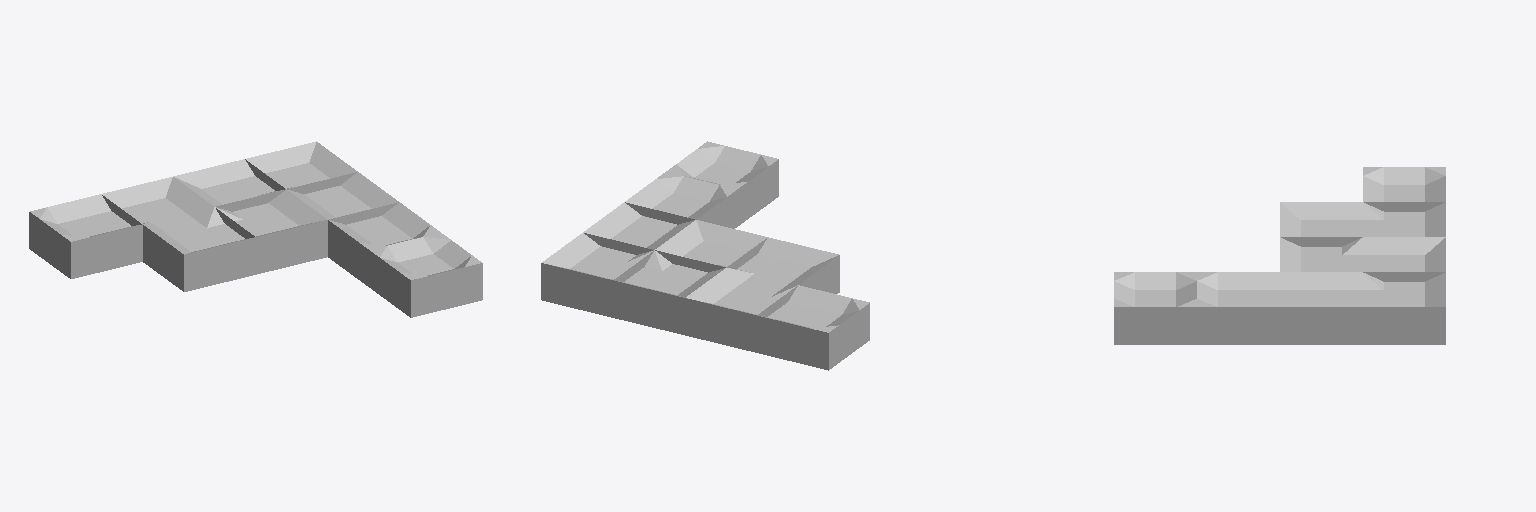
File: 75f_path.obj
The picture shows the model from 3 angles: view 1: azimuth 30°, elevation 25°; view 2: azimuth 150°, elevation 25°; view 3: azimuth 270°, elevation 25°; orthographic projection.
Visible parts, largest first — view 1: foil.hole.3.1_Cube.301, foil.ending.0.4_ending.599, foil.corner.1.3_corner.1489, foil.corner.2.3_corner.1491, foil.ending.3.2_ending.600, foil.corner.1.4_corner.1490, foil.through.3.3_through.307, foil.corner.3.4_corner.1493, foil.corner.2.4_corner.1492; view 2: foil.ending.0.4_ending.599, foil.corner.1.4_corner.1490, foil.corner.3.4_corner.1493, foil.corner.2.4_corner.1492, foil.hole.3.1_Cube.301, foil.corner.1.3_corner.1489, foil.ending.3.2_ending.600, foil.through.3.3_through.307, foil.corner.2.3_corner.1491; view 3: foil.hole.3.1_Cube.301, foil.ending.3.2_ending.600, foil.through.3.3_through.307, foil.corner.3.4_corner.1493, foil.corner.1.3_corner.1489, foil.ending.0.4_ending.599, foil.corner.1.4_corner.1490, foil.corner.2.4_corner.1492, foil.corner.2.3_corner.1491.
Boxes of the visible parts, box(x1,y1,x2,y2) form: foil.hole.3.1_Cube.301: box(369, 233, 482, 317); foil.ending.0.4_ending.599: box(29, 194, 142, 278); foil.corner.1.3_corner.1489: box(143, 207, 255, 291); foil.corner.2.3_corner.1491: box(215, 189, 327, 274); foil.ending.3.2_ending.600: box(328, 202, 440, 286); foil.corner.1.4_corner.1490: box(102, 177, 213, 228); foil.through.3.3_through.307: box(287, 172, 398, 224); foil.corner.3.4_corner.1493: box(245, 141, 357, 190); foil.corner.2.4_corner.1492: box(173, 159, 285, 210); foil.ending.0.4_ending.599: box(757, 285, 869, 370); foil.corner.1.4_corner.1490: box(685, 268, 797, 352); foil.corner.3.4_corner.1493: box(541, 233, 653, 317); foil.corner.2.4_corner.1492: box(613, 250, 724, 334); foil.hole.3.1_Cube.301: box(666, 141, 778, 225); foil.corner.1.3_corner.1489: box(727, 237, 839, 293); foil.ending.3.2_ending.600: box(625, 172, 737, 228); foil.through.3.3_through.307: box(583, 202, 694, 254); foil.corner.2.3_corner.1491: box(655, 220, 767, 271); foil.hole.3.1_Cube.301: box(1114, 272, 1196, 344); foil.ending.3.2_ending.600: box(1197, 272, 1279, 344); foil.through.3.3_through.307: box(1280, 272, 1362, 344); foil.corner.3.4_corner.1493: box(1363, 272, 1445, 344); foil.corner.1.3_corner.1489: box(1280, 202, 1362, 246); foil.ending.0.4_ending.599: box(1363, 167, 1445, 201); foil.corner.1.4_corner.1490: box(1363, 202, 1445, 236); foil.corner.2.4_corner.1492: box(1363, 237, 1445, 271); foil.corner.2.3_corner.1491: box(1280, 237, 1362, 271).
Size of the model in its own units: 8 by 1 by 8.